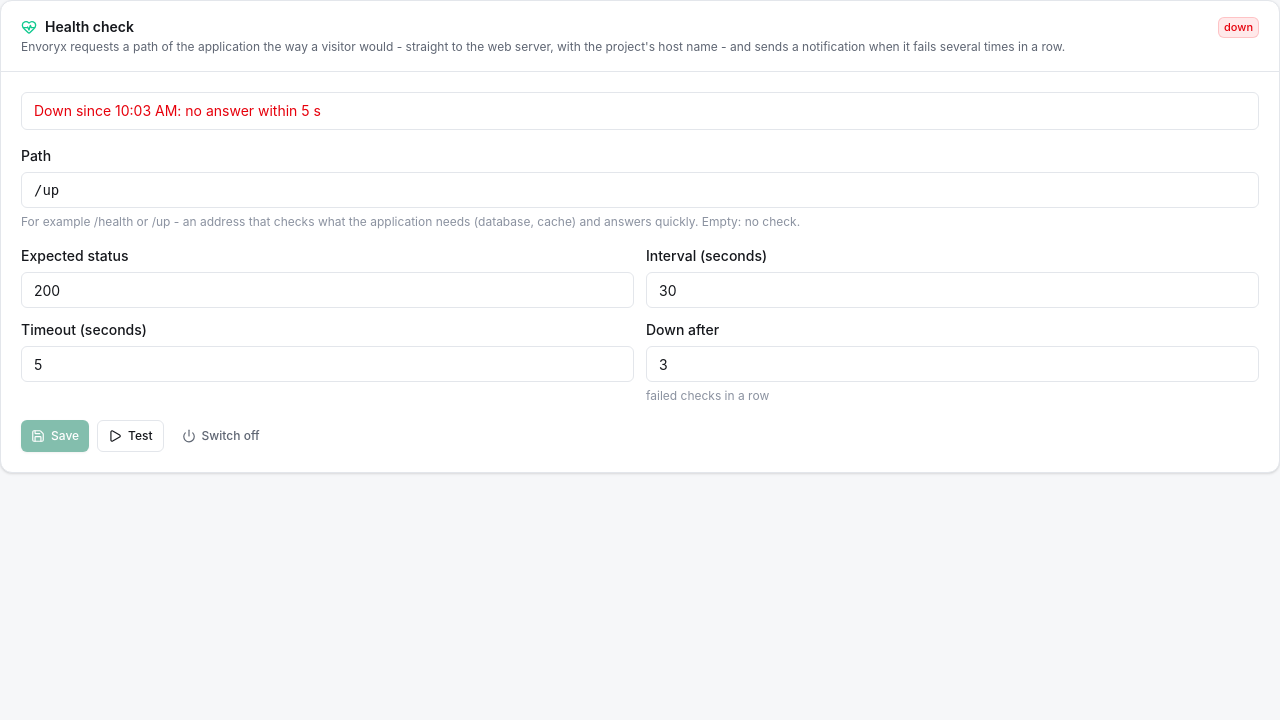
Test: HealthCheckCard › shows the state of a saved check and switches it off
Expected: the text "down" is shown, [1218,17,1259,38]
Expected: the text "Down since 10:03 AM: no answer within 5 s" is shown, [34,102,321,119]
Click the button "Switch off". click: {"x": 221, "y": 436}
box: [172,420,270,452]
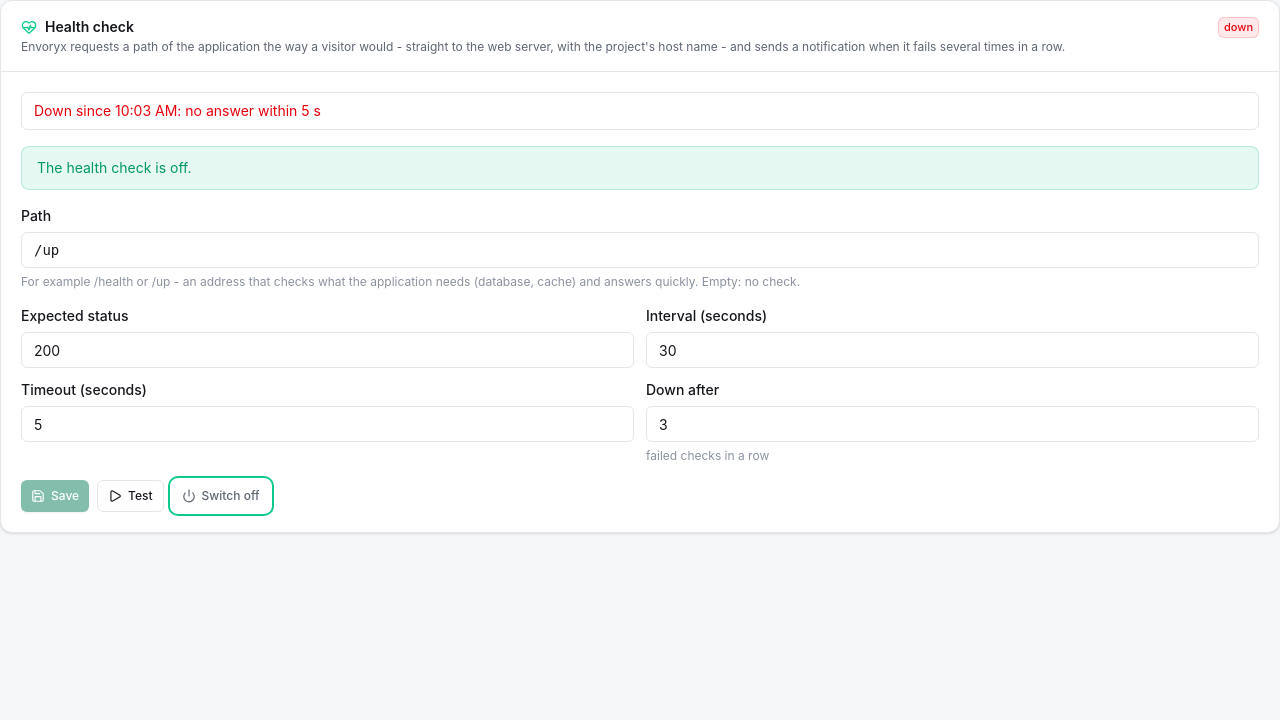
Expected: the text "The health check is off." is shown, [37,159,192,176]
